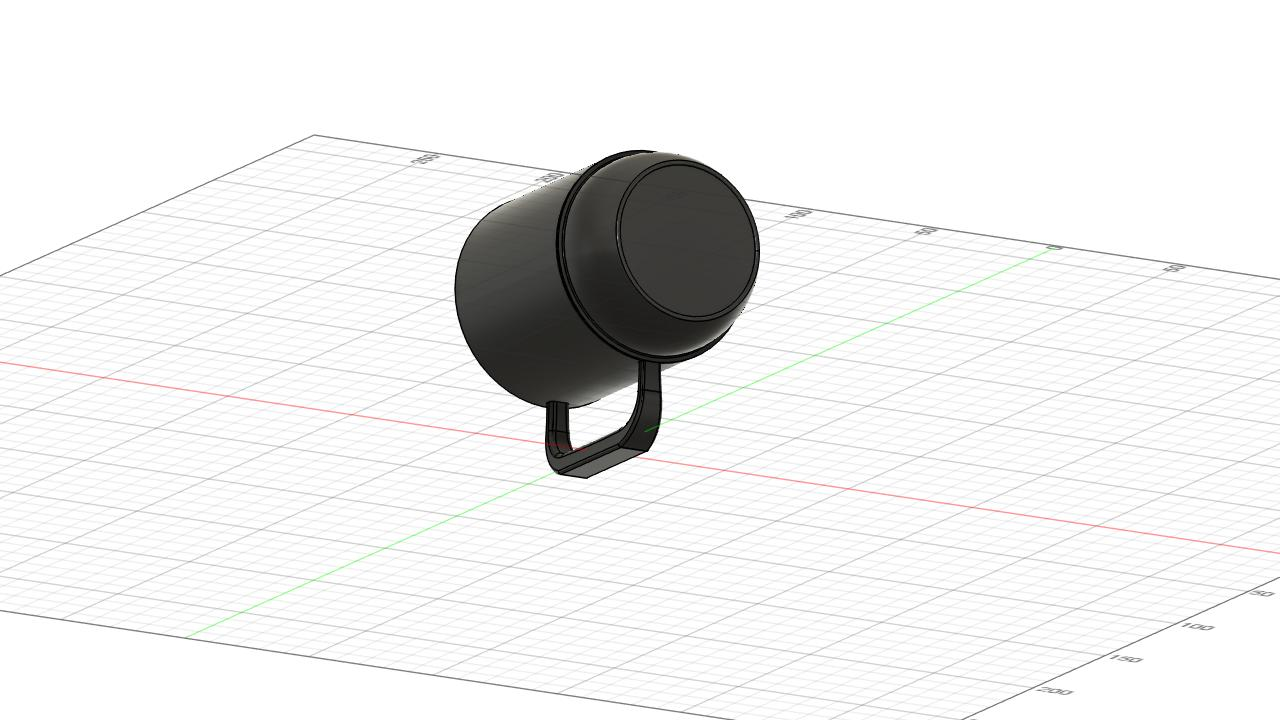mug-real100-3d100: (455, 151, 758, 477)
